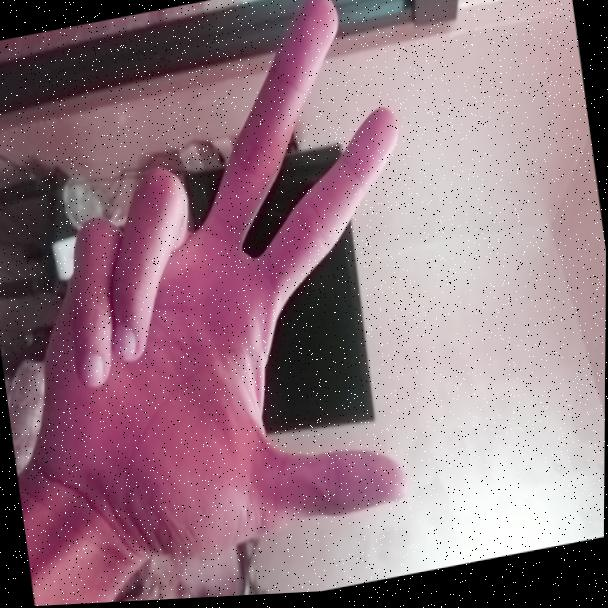three: (11, 0, 458, 585)
